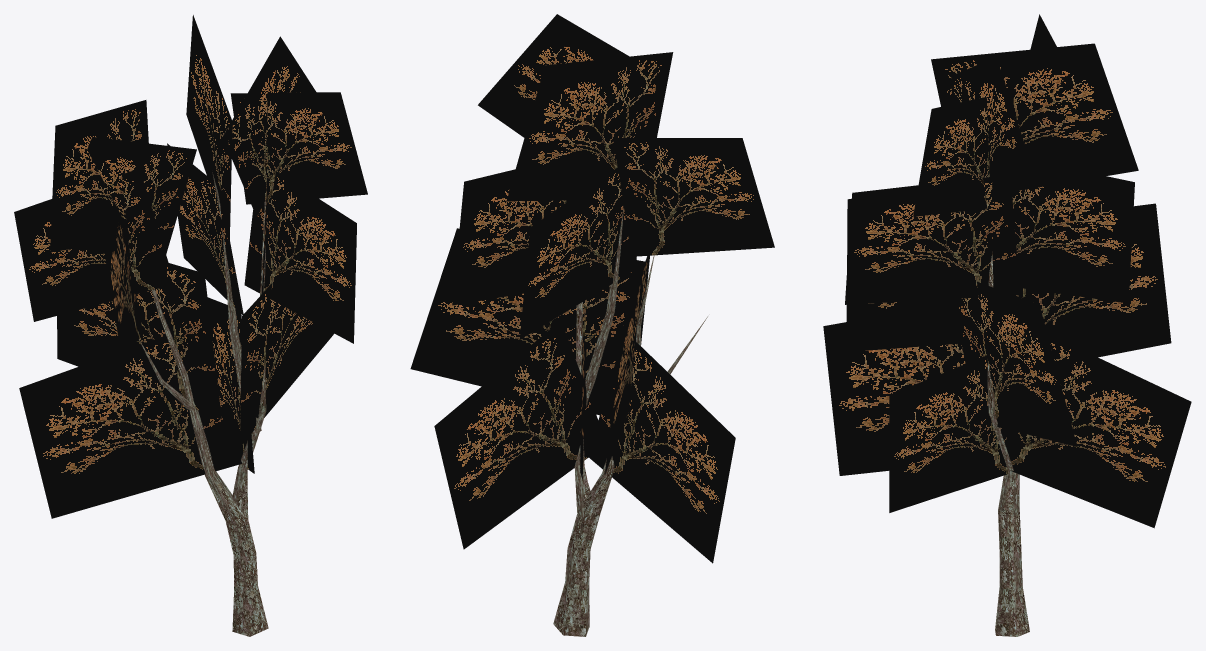
File: stage-maya-p4-71.glb
3 renders of one model, left to right at view 1: azimuth 30°, elevation 25°; view 2: azimuth 150°, elevation 25°; view 3: azimuth 270°, elevation 25°, orthographic. The views are drawn at different scales.
Bounding box in the file's own units: 17.85 × 31.18 × 17.68.
Materials: 2 (2 with a texture image).
